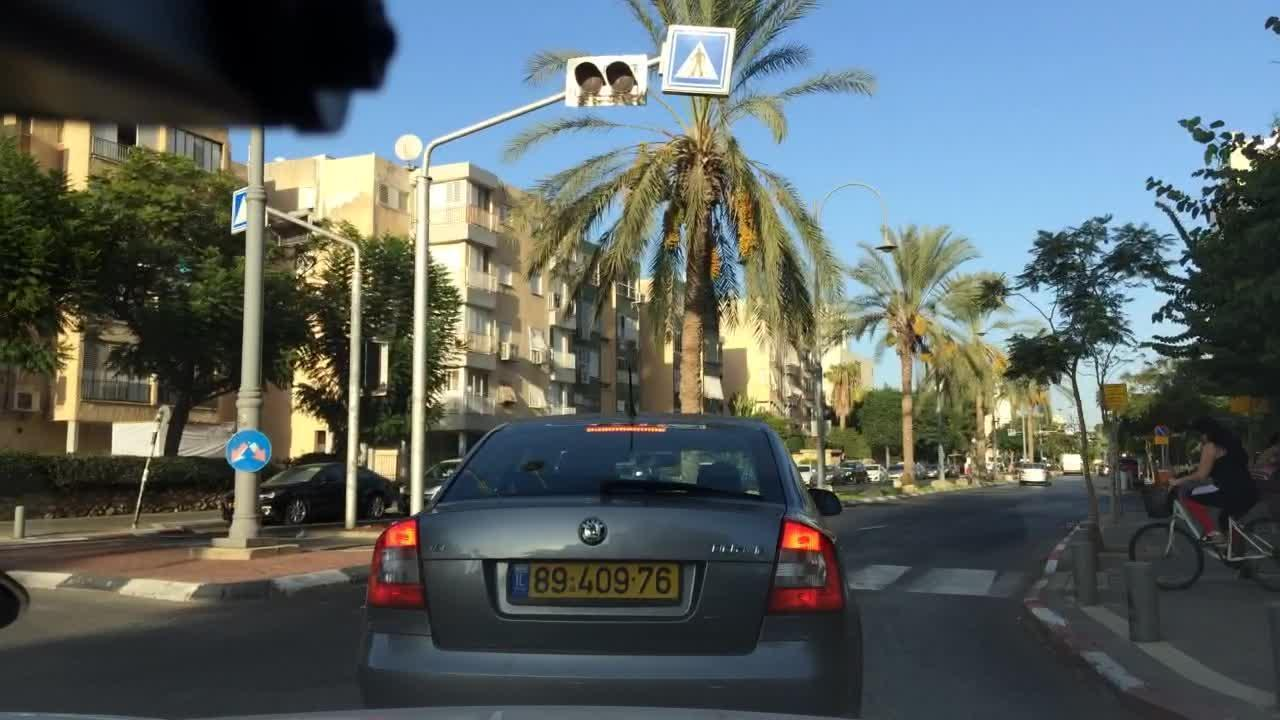skoda: (575, 513, 610, 548)
